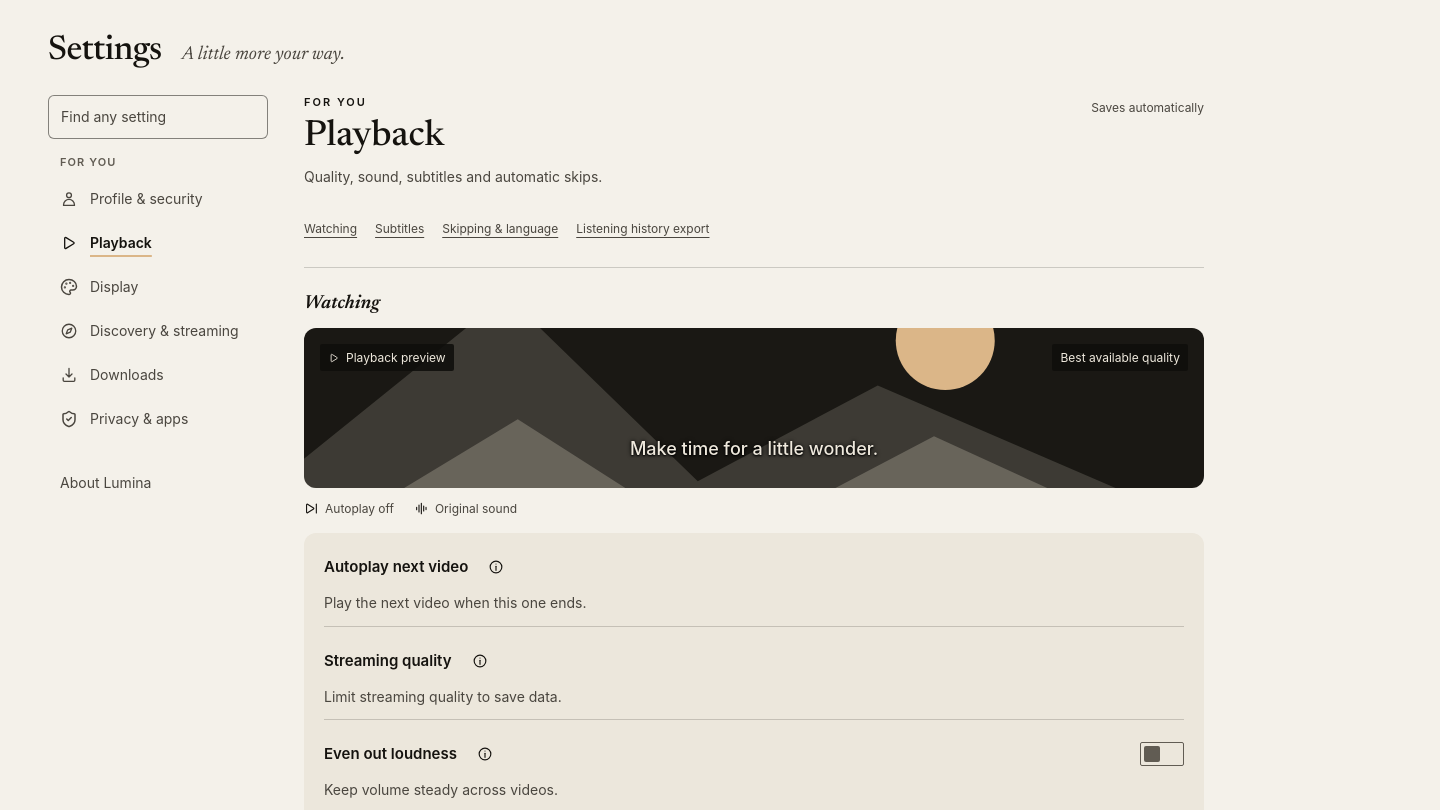
Settings destination search › does not expose or fetch owner-only settings for a member
This screenshot has width=1440, height=810.
Step 1. Type "backup" into the search field named "Search settings" → (158, 117), box left=48, top=95, right=268, bottom=139
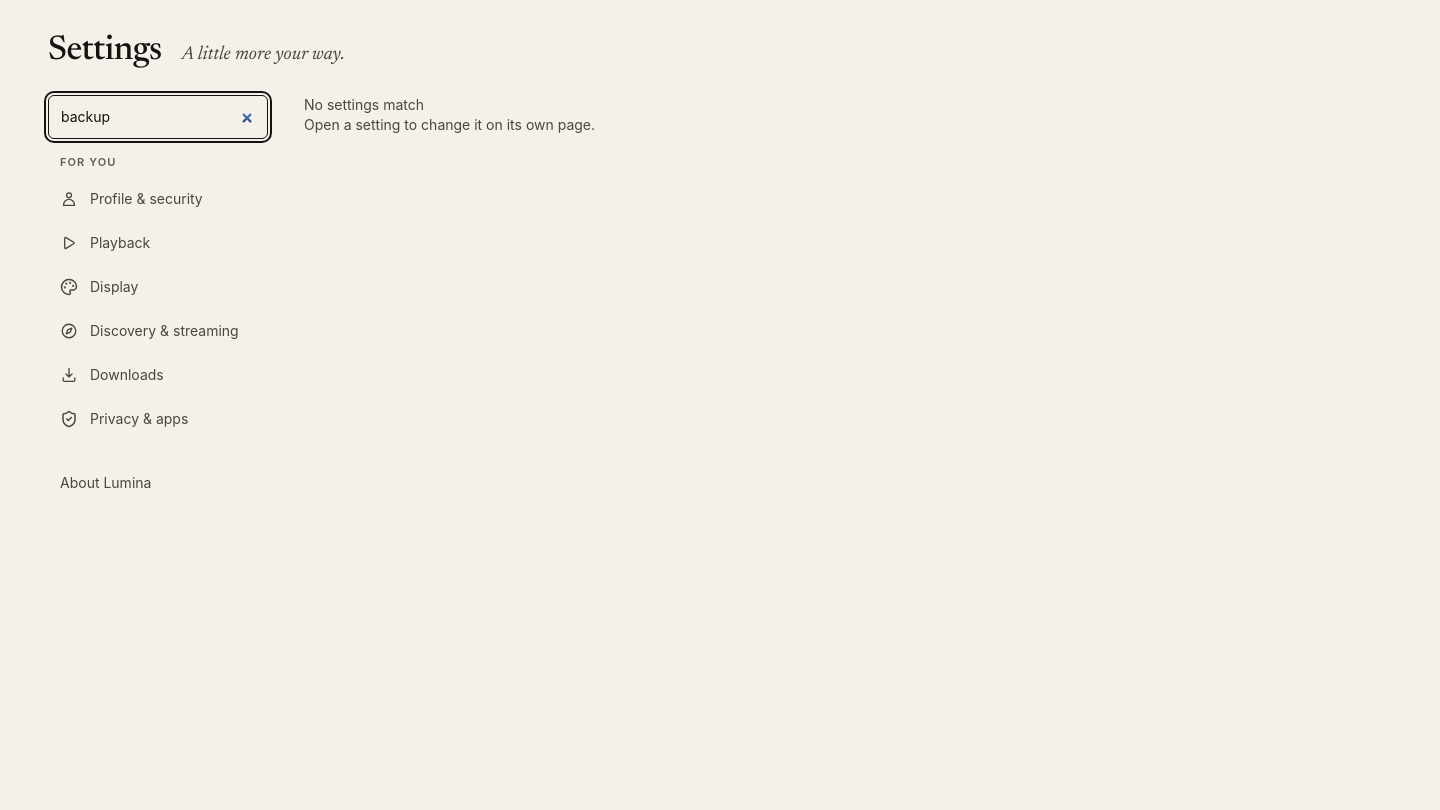
Expected: the message reads "No settings match", left=304, top=96, right=424, bottom=113
